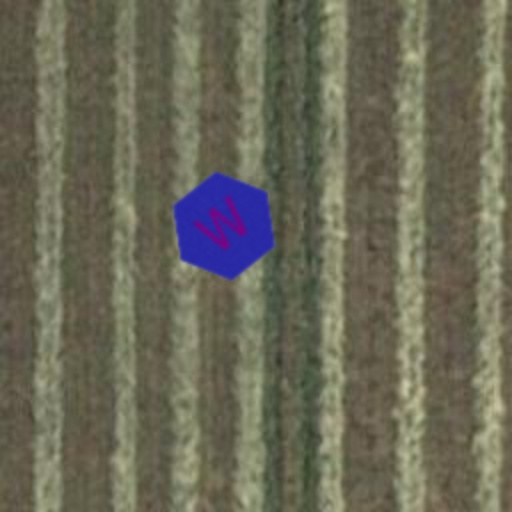hexagon: (146, 148, 302, 304)
